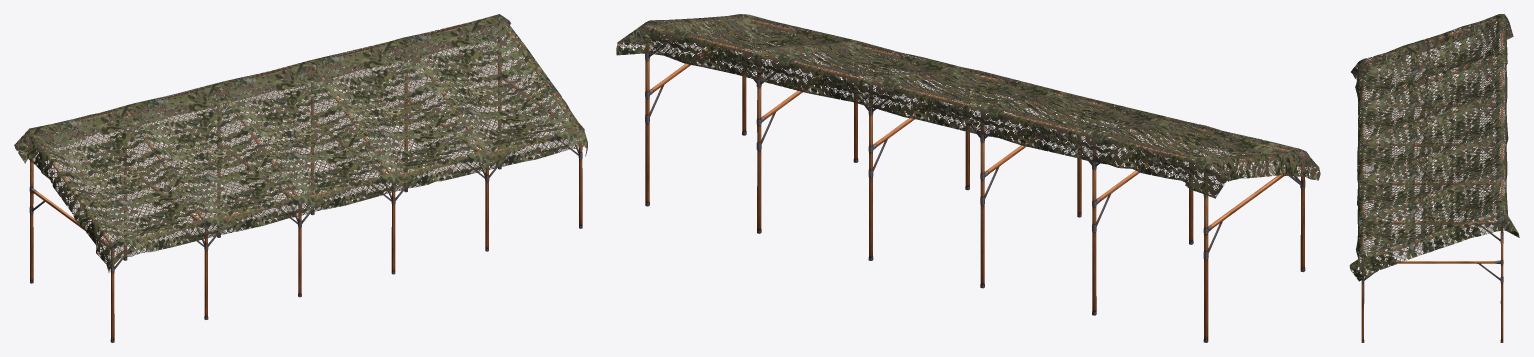
File: Awning02_2.FBX
The picture shows the model from 3 angles, left to right: view 1: azimuth 30°, elevation 25°; view 2: azimuth 150°, elevation 25°; view 3: azimuth 270°, elevation 25°; orthographic projection. The views are drawn at different scales.
Parts seen in each view (by area): view 1: Awning02_2; view 2: Awning02_2; view 3: Awning02_2.
Part boxes in pixels (<box>): Awning02_2: <box>14,14,587,342</box>; Awning02_2: <box>616,14,1320,342</box>; Awning02_2: <box>1349,14,1519,342</box>.
Size of what is drawn, in the model's own units: 21.56 by 6.29 by 7.34.
